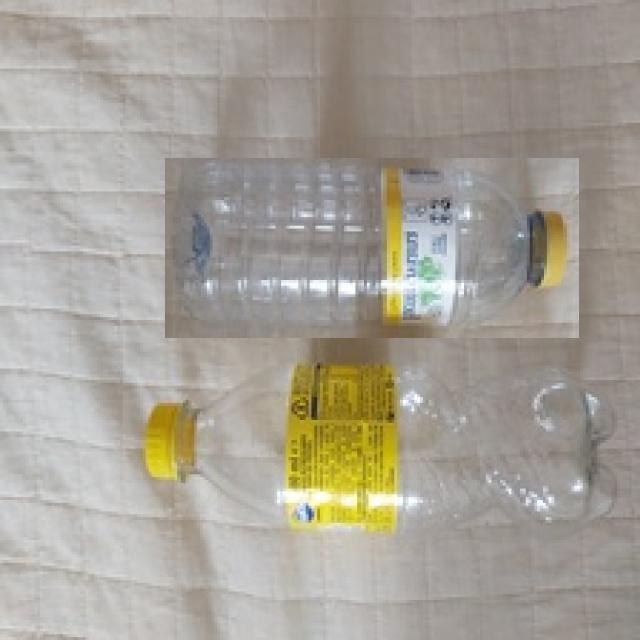bottle: (137, 353, 616, 548), (165, 158, 579, 338)
cap: (140, 400, 198, 478), (530, 210, 568, 292)
label: (292, 344, 401, 544), (386, 168, 464, 327)
